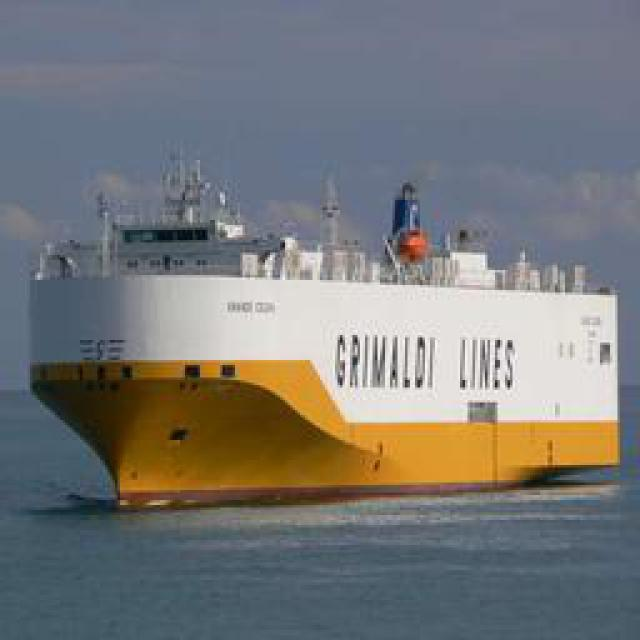Ship: (23, 175, 640, 505)
